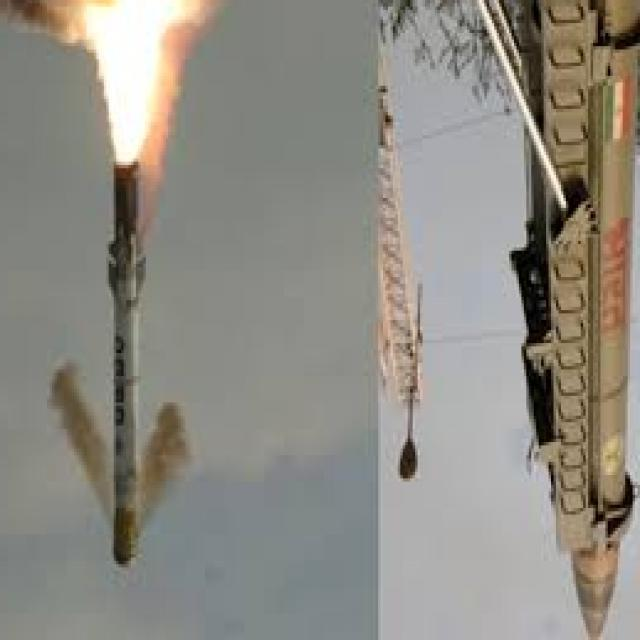Missile: (104, 159, 143, 571)
